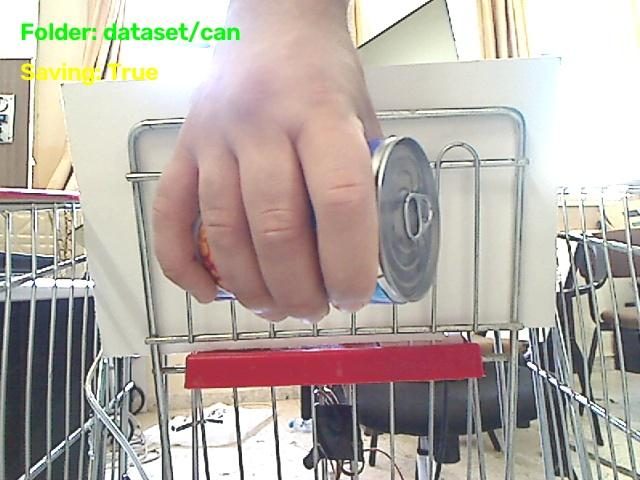can: (369, 136, 439, 303)
